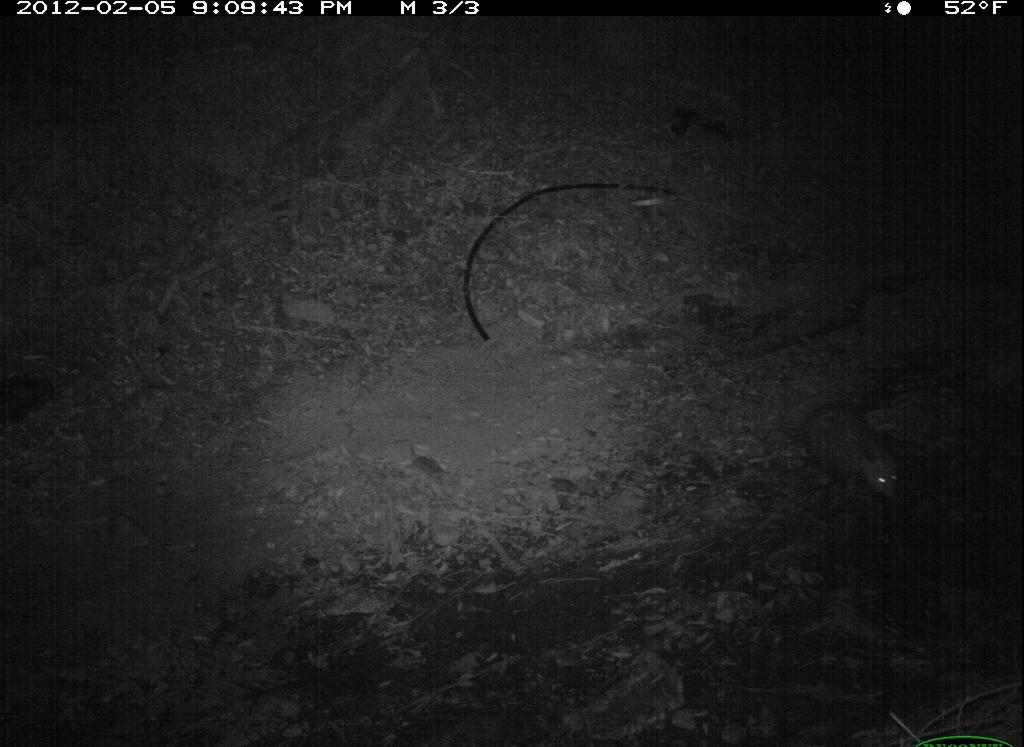opossum: (762, 376, 916, 521)
